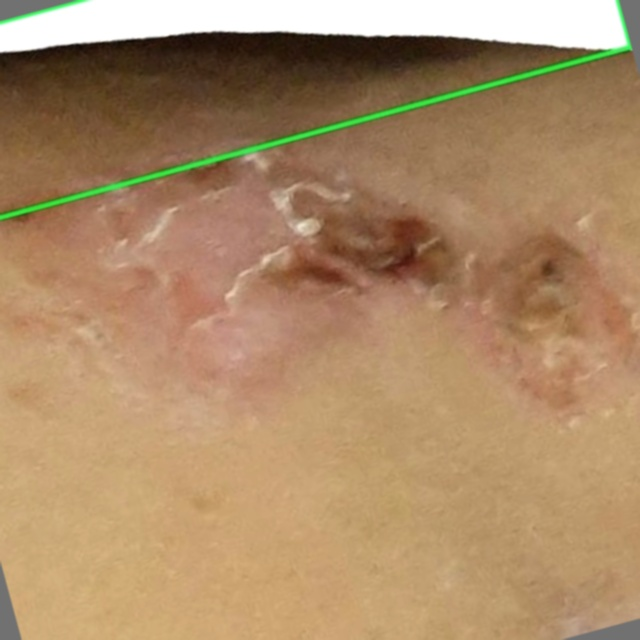Contact Dermatitis: (0, 0, 630, 217)
